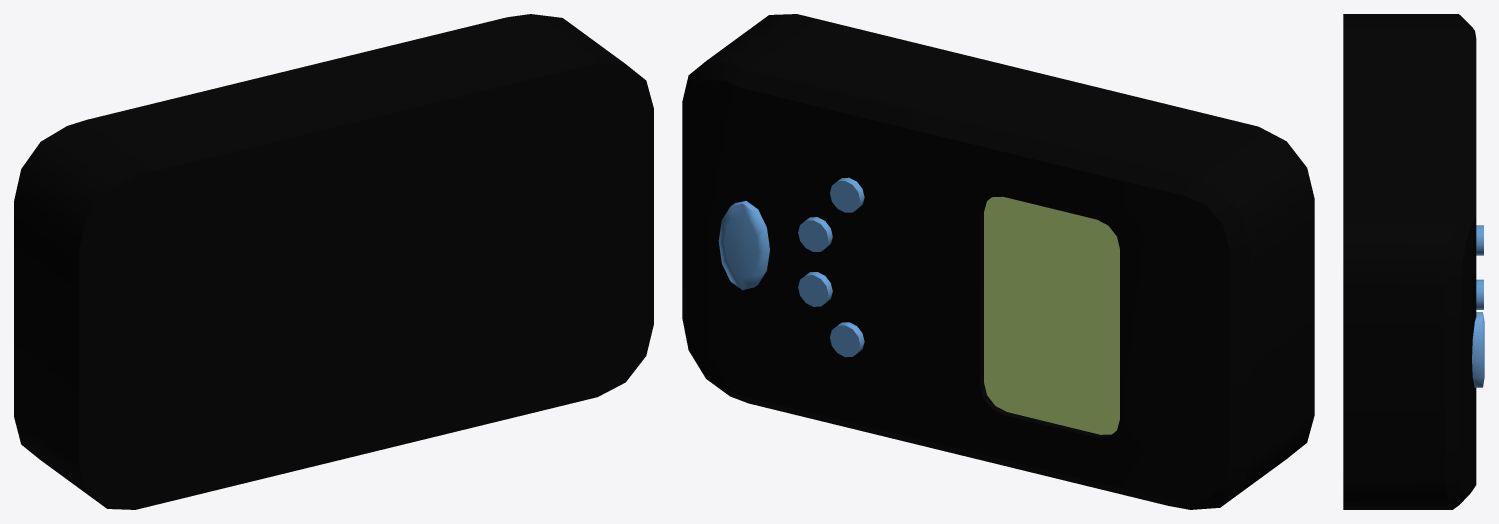
3 renders of one model, left to right at view 1: azimuth 30°, elevation 25°; view 2: azimuth 150°, elevation 25°; view 3: azimuth 270°, elevation 25°, orthographic. The views are drawn at different scales.
Visible parts, largest first — view 1: Circle; view 2: Circle; view 3: Circle.
Boxes of the visible parts, x1,y1,x2,y2 form: Circle: (14,14,653,509); Circle: (682,14,1314,509); Circle: (1343,14,1484,509).
Size of the model in its own units: 5.58 by 3.1 by 1.37.
